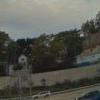Tree: (10, 19, 84, 71)
